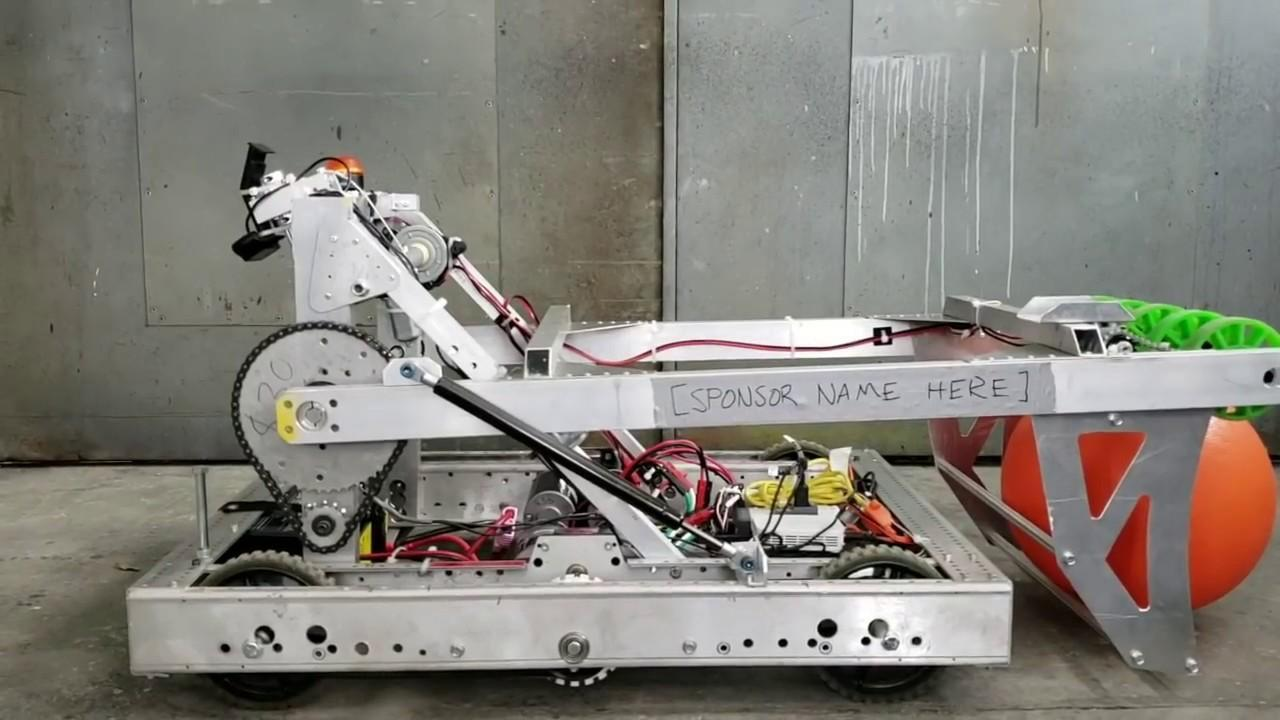robot: (120, 129, 1280, 707)
